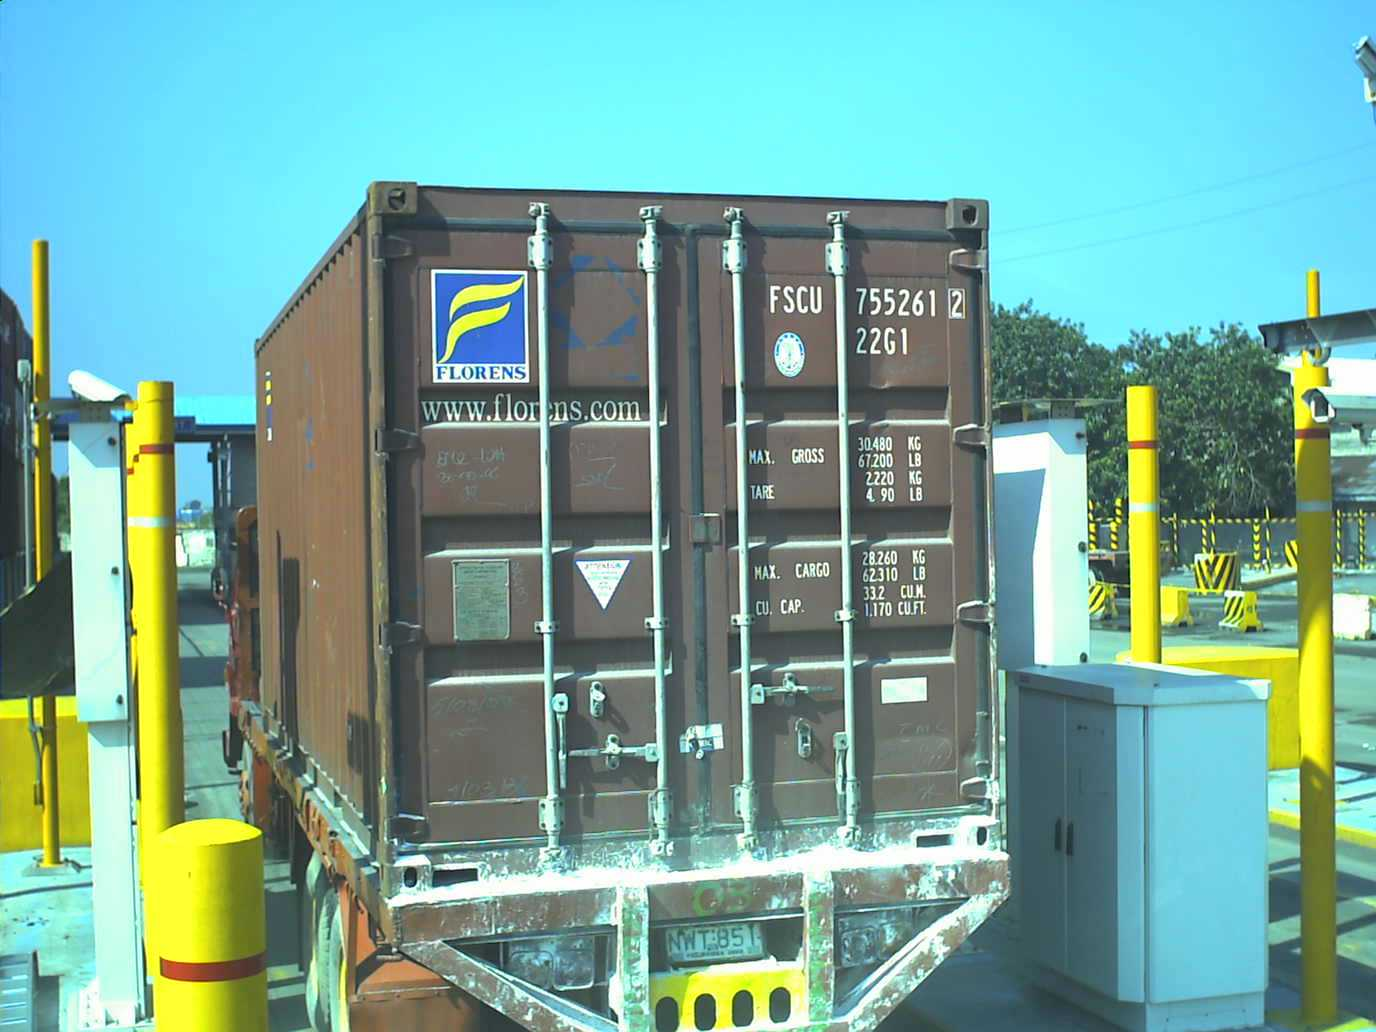container_door: (366, 147, 1011, 869)
